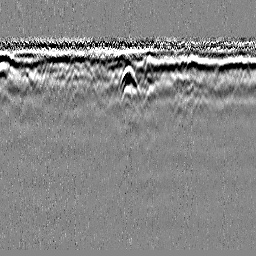cavity: (119, 64, 138, 90)
